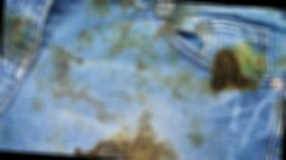earth: (82, 134, 166, 160), (208, 49, 252, 95), (50, 47, 75, 91), (6, 15, 36, 51), (160, 18, 179, 34)
